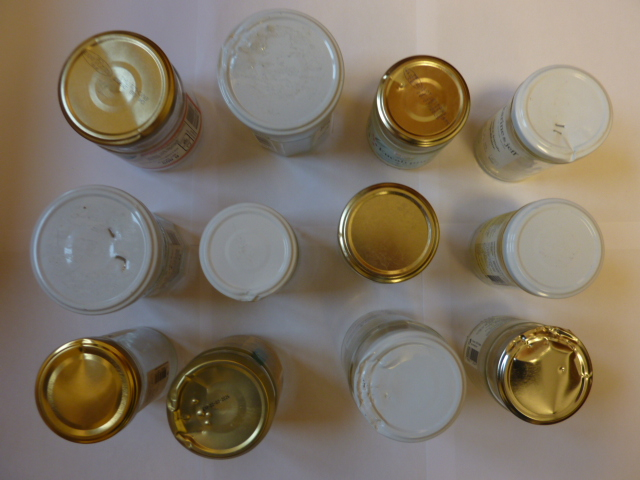damaged: (217, 12, 345, 135), (56, 32, 176, 144), (500, 325, 594, 427), (374, 52, 471, 147)
